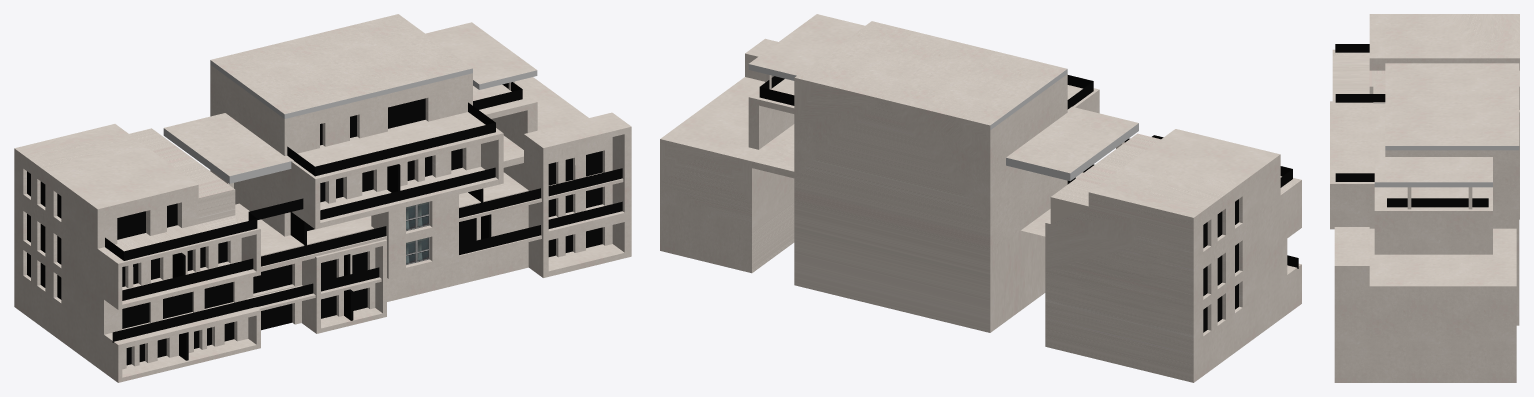
The model's file is SM_Building_02.fbx.
3 renders of one model, left to right at view 1: azimuth 30°, elevation 25°; view 2: azimuth 150°, elevation 25°; view 3: azimuth 270°, elevation 25°, orthographic. The views are drawn at different scales.
Parts seen in each view (by area): view 1: SM_Building_02; view 2: SM_Building_02; view 3: SM_Building_02.
Part boxes in pixels (x1=…): SM_Building_02: x1=14, y1=14, x2=631, y2=382; SM_Building_02: x1=660, y1=14, x2=1301, y2=382; SM_Building_02: x1=1330, y1=14, x2=1519, y2=382.
Bounding box in the file's own units: 58.42 × 21.64 × 20.66.
